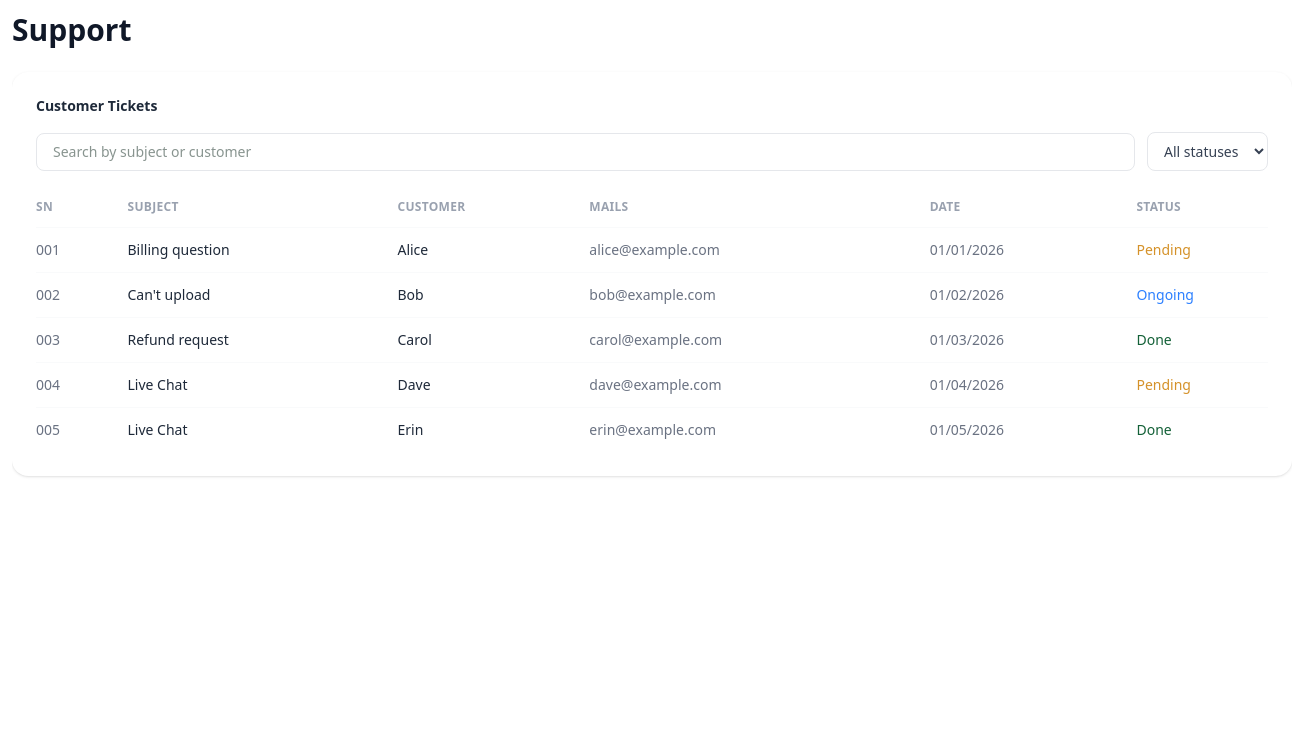
AdminSupportPage › shows the description field for a regular ticket, not a chat thread
Click the text "Billing question".
click(179, 250)  # box left=128, top=228, right=398, bottom=272
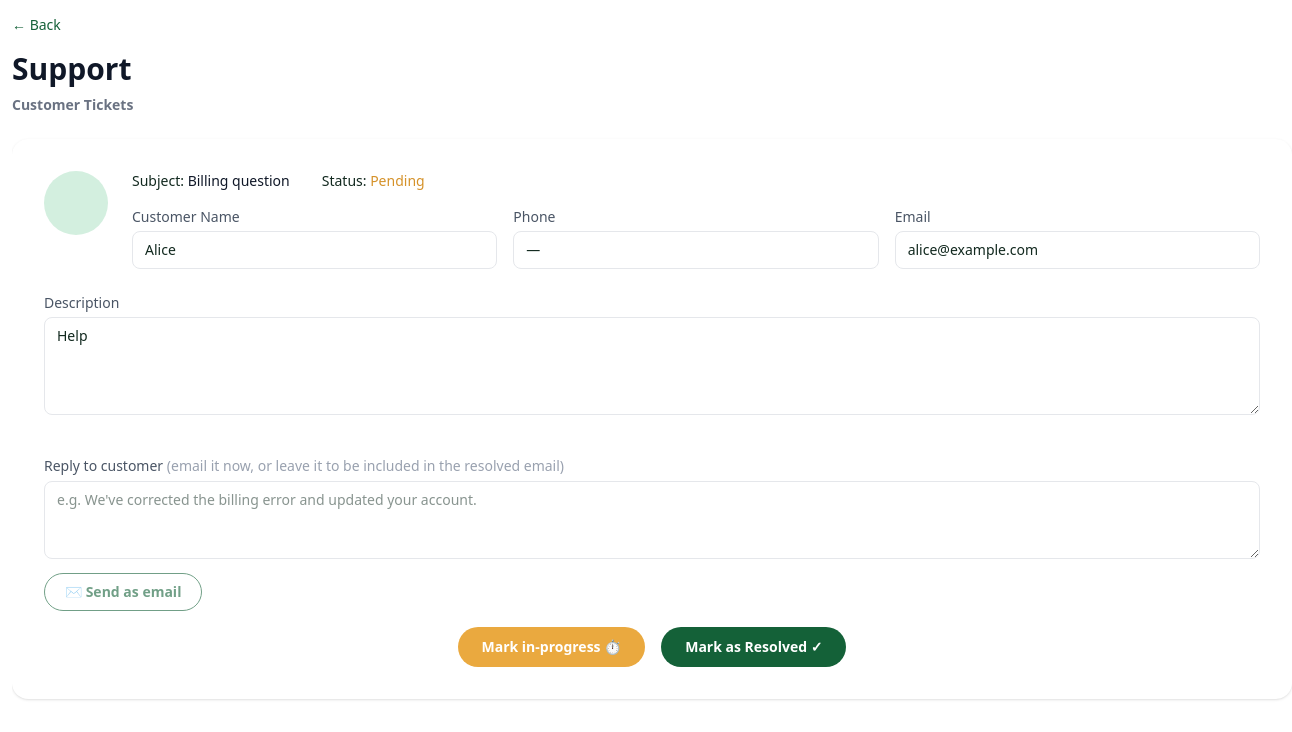
Expected: the text "Description" is shown, left=44, top=293, right=119, bottom=312
